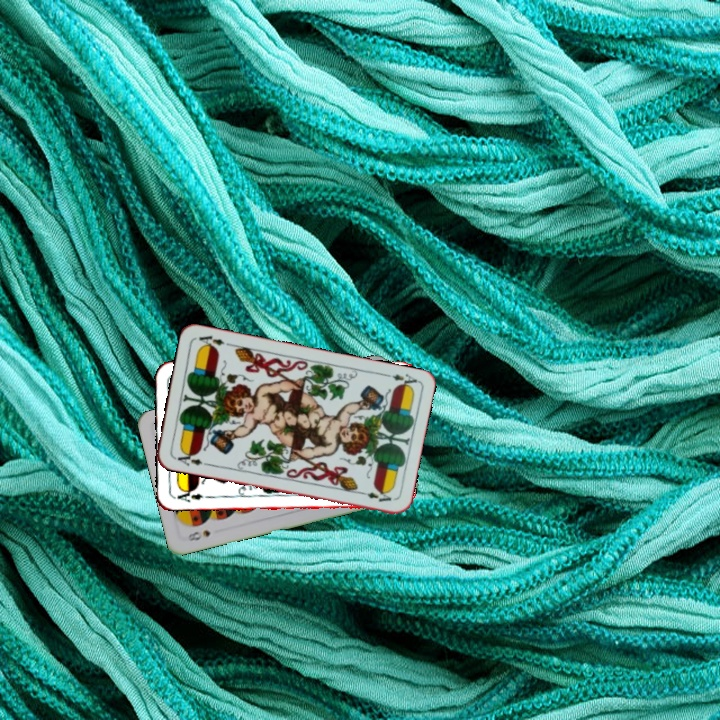EA: (379, 369, 420, 391), (170, 447, 211, 468), (171, 486, 205, 505)
S8: (184, 526, 213, 544)
